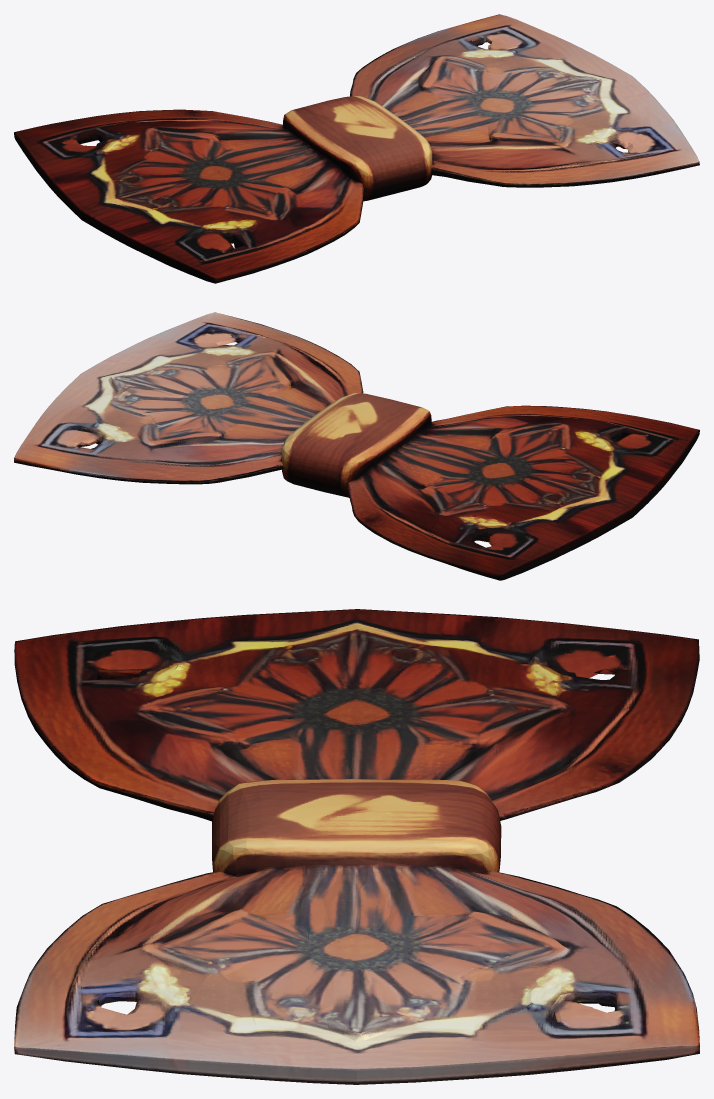
File: wooden-bowtie-art-deco.jpeg.glb
3 views of the same model, one above another, from view 1: azimuth 30°, elevation 25°; view 2: azimuth 150°, elevation 25°; view 3: azimuth 270°, elevation 25° (orthographic). The views are drawn at different scales.
Parts seen in each view (by area): view 1: world; view 2: world; view 3: world.
Part boxes in pixels (x1,y1,x2,y2): world: (14, 14, 699, 283); world: (14, 312, 699, 580); world: (14, 609, 699, 1084).
Bounding box in the file's own units: 1 × 0.083 × 0.63.
Materials: 1 (1 with a texture image).
